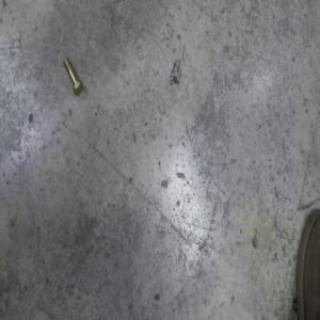Bolttrack_idkeyframe: (62, 55, 84, 96)
